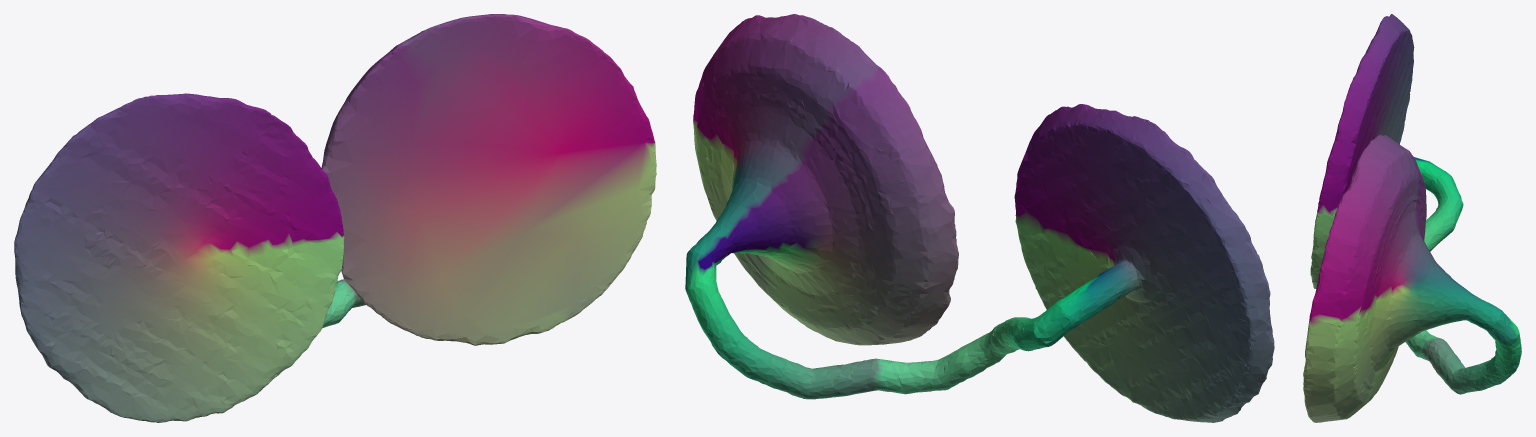
File: lamp-13.off.obj
The picture shows the model from 3 angles, left to right: view 1: azimuth 30°, elevation 25°; view 2: azimuth 150°, elevation 25°; view 3: azimuth 270°, elevation 25°; orthographic projection. The views are drawn at different scales.
Size of the model in its own units: 1.7 by 0.8644 by 0.6419.
